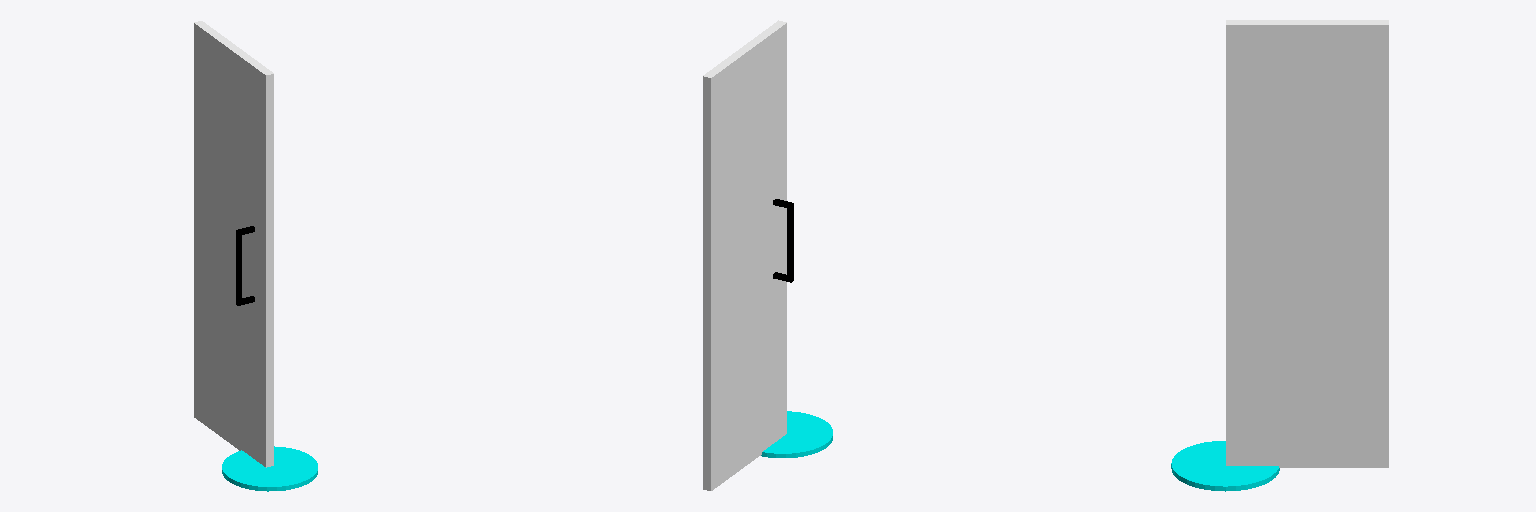
robot.urdf — shelf:
<?xml version="1.0" ?>
<!-- =================================================================================== -->
<!-- |    This document was autogenerated by xacro from shelf.urdf.xacro               | -->
<!-- |    EDITING THIS FILE BY HAND IS NOT RECOMMENDED                                 | -->
<!-- =================================================================================== -->
<robot name="shelf">
  <link name="world"/>
  <joint name="fixed" type="fixed">
    <parent link="world"/>
    <child link="shelf"/>
    <origin rpy="0 0 3.14159" xyz="0.6 0 0"/>
  </joint>
  <link name="shelf">
    <visual>
      <origin xyz="0 0 0" rpy="0 0 0" />
      <geometry>
        <cylinder radius="0.10" length="0.01"/>
      </geometry>
      <material name="Cyan">
        <color rgba="0 1.0 1.0 0.3"/>
      </material>
    </visual>
  </link>
  <link name="door">
    <inertial>
      <origin rpy="0 0 0" xyz="0 0 0"/>
      <mass value="5.8"/>
      <inertia ixx="0.434826" ixy="0" ixz="0" iyy="0.391536656" iyz="0" izz="0.434826"/>
    </inertial>
    <visual>
      <origin rpy="0 0 0" xyz="0 0.15 0"/>
      <geometry>
        <box size="0.02 0.3 0.9"/>
      </geometry>
      <material name="door_material">
        <color rgba="1.0 1.0 1.0 1"/>
      </material>
    </visual>
    <collision>
      <origin rpy="0 0 0" xyz="0 0.15 0"/>
      <geometry>
        <box size="0.02 0.3 0.9"/>
      </geometry>
    </collision>
  </link>
  <link name="door_hinge"/>
  <joint name="door_hinge_joint" type="fixed">
    <parent link="shelf"/>
    <child link="door_hinge"/>
    <dynamics damping="2.0" friction="4.0"/>
    <origin xyz="0 -0.3 0.45"/>
  </joint>
  <joint name="articulation_joint" type="revolute">
    <parent link="door_hinge"/>
    <child link="door"/>
    <dynamics damping="2.0" friction="4.0"/>
    <origin xyz="0 0 0"/>
    <axis xyz="0 0 -1"/>
    <limit effort="100" lower="0" upper="1.57" velocity="10.0"/>
  </joint>
  <link name="handle">
    <inertial>
      <origin rpy="0 0 0" xyz="0 0 0"/>
      <mass value="0.1"/>
      <inertia ixx="0.001" ixy="0" ixz="0" iyy="0.001" iyz="0" izz="0.001"/>
    </inertial>
    <visual>
      <origin rpy="0 0 0" xyz="0 0 0"/>
      <geometry>
        <box size="0.01 0.01 0.17"/>
      </geometry>
      <material name="handle_material">
        <color rgba="0.0 0.0 0.0 1"/>
      </material>
    </visual>
    <collision>
      <origin rpy="0 0 0" xyz="0 0 0"/>
      <geometry>
        <box size="0.01 0.01 0.17"/>
      </geometry>
    </collision>
  </link>
  <link name="handle_support_left">
    <inertial>
      <origin rpy="0 0 0" xyz="0 0 0"/>
      <mass value="0.1"/>
      <inertia ixx="0.001" ixy="0" ixz="0" iyy="0.001" iyz="0" izz="0.001"/>
    </inertial>
    <visual>
      <origin rpy="0 0 0" xyz="0 0 0"/>
      <geometry>
        <box size="0.036 0.01 0.01"/>
      </geometry>
      <material name="handle_material">
        <color rgba="0.0 0.0 0.0 1"/>
      </material>
    </visual>
    <collision>
      <origin rpy="0 0 0" xyz="0 0 0"/>
      <geometry>
        <box size="0.036 0.01 0.01"/>
      </geometry>
    </collision>
  </link>
  <link name="handle_support_right">
    <inertial>
      <origin rpy="0 0 0" xyz="0 0 0"/>
      <mass value="0.1"/>
      <inertia ixx="0.001" ixy="0" ixz="0" iyy="0.001" iyz="0" izz="0.001"/>
    </inertial>
    <visual>
      <origin rpy="0 0 0" xyz="0 0 0"/>
      <geometry>
        <box size="0.036 0.01 0.01"/>
      </geometry>
      <material name="handle_material">
        <color rgba="0.0 0.0 0.0 1"/>
      </material>
    </visual>
    <collision>
      <origin rpy="0 0 0" xyz="0 0 0"/>
      <geometry>
        <box size="0.036 0.01 0.01"/>
      </geometry>
    </collision>
  </link>
  <joint name="handle_joint" type="fixed">
    <parent link="door"/>
    <child link="handle"/>
    <origin rpy="0 0 0" xyz="0.046 0.25 0"/>
    <!-- height handle + half the width door, 0.30 minus some offset -->
  </joint>
  <joint name="handle_support_left_joint" type="fixed">
    <parent link="handle"/>
    <child link="handle_support_left"/>
    <origin rpy="0 0 0" xyz="-0.018 0 0.08"/>
  </joint>
  <joint name="handle_support_right_joint" type="fixed">
    <parent link="handle"/>
    <child link="handle_support_right"/>
    <origin rpy="0 0 0" xyz="-0.018 0 -0.08"/>
  </joint>
</robot>

--- Render facts (derived) ---
The picture shows the robot from 3 angles, left to right: view 1: azimuth 30°, elevation 25°; view 2: azimuth 150°, elevation 25°; view 3: azimuth 270°, elevation 25°; orthographic projection.
Robot: shelf — 7 links, 6 joints (1 revolute, 5 fixed); root link world; default pose: all joints at 0.
Visible links, largest first — view 1: door, shelf; view 2: door, shelf, handle; view 3: door, shelf.
Link boxes in pixels (left/top/right/bottom): door: left=194, top=21, right=273, bottom=467; shelf: left=222, top=446, right=317, bottom=491; door: left=703, top=20, right=786, bottom=490; shelf: left=761, top=411, right=832, bottom=457; handle: left=787, top=202, right=793, bottom=282; door: left=1226, top=20, right=1388, bottom=467; shelf: left=1171, top=441, right=1279, bottom=491.
Bounding box of the posed robot: 0.2 × 0.4 × 0.905 m (x, y, z).
Geometry: primitives only (box / cylinder / sphere), no mesh files.